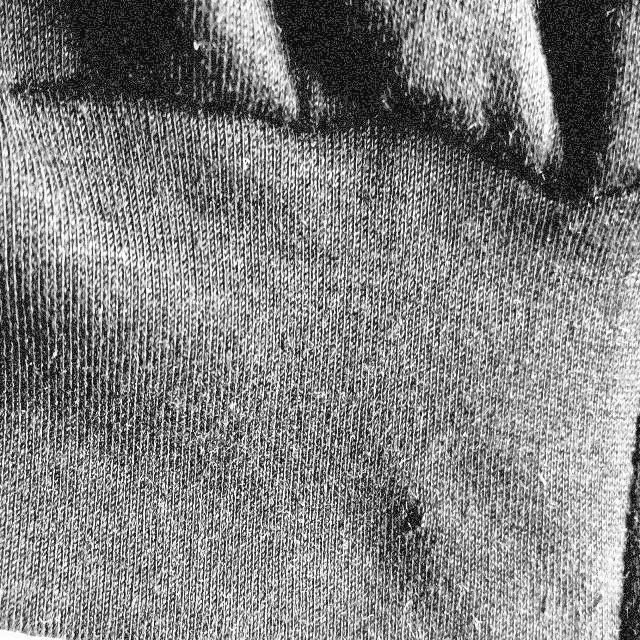Hole: (360, 470, 439, 546)
